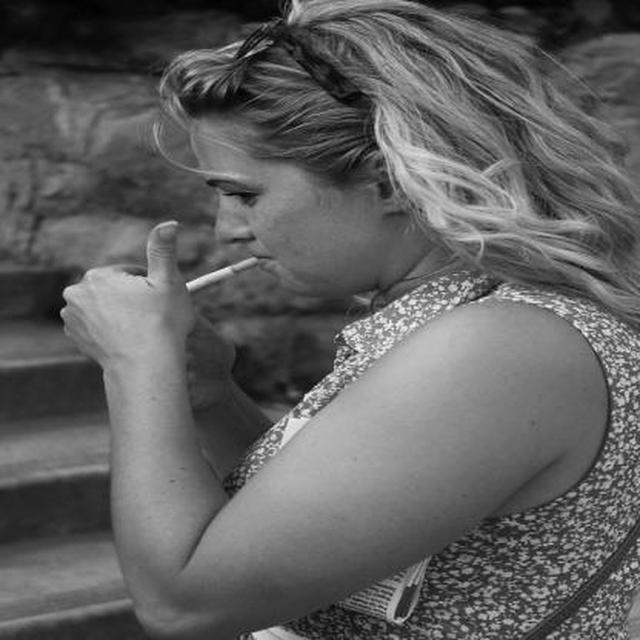smoking: (177, 251, 274, 302)
